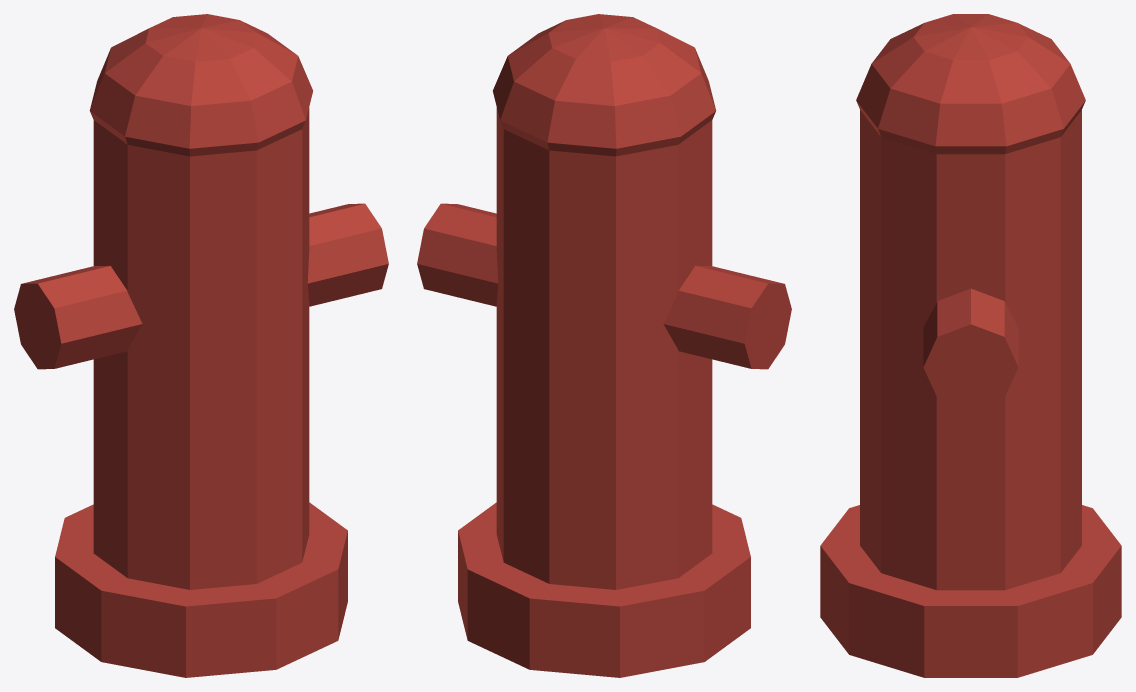
Rendered from prop_hydrant.glb.
3 views of the same model, side by side, from view 1: azimuth 30°, elevation 25°; view 2: azimuth 150°, elevation 25°; view 3: azimuth 270°, elevation 25° (orthographic).
Visible parts, largest first — view 1: Body, Foot, Cap, Nozzle_1, Nozzle_0; view 2: Body, Foot, Cap, Nozzle_1, Nozzle_0; view 3: Body, Foot, Cap, Nozzle_0.
Boxes of the visible parts, <box> form: Body: <box>93,107,309,589</box>; Foot: <box>55,502,347,677</box>; Cap: <box>89,14,312,156</box>; Nozzle_1: <box>14,265,142,369</box>; Nozzle_0: <box>307,203,388,306</box>; Body: <box>496,107,712,589</box>; Foot: <box>458,502,750,677</box>; Cap: <box>493,14,716,156</box>; Nozzle_1: <box>663,265,791,369</box>; Nozzle_0: <box>417,203,498,306</box>; Body: <box>860,110,1081,590</box>; Foot: <box>820,505,1121,677</box>; Cap: <box>856,14,1085,154</box>; Nozzle_0: <box>923,288,1018,410</box>.
Size of the model in its own units: 0.48 by 0.8215 by 0.38.
